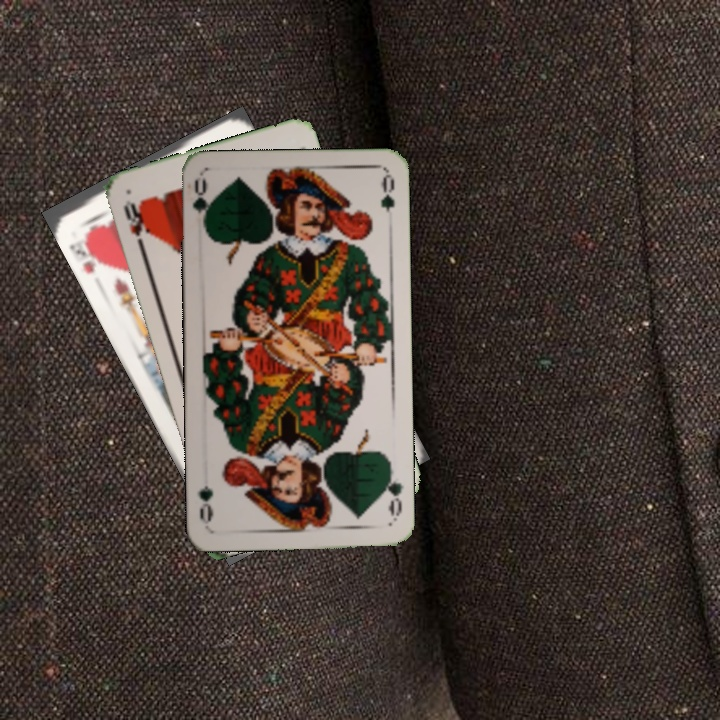GO: (188, 176, 215, 235), (379, 463, 406, 522)
HK: (66, 228, 108, 277)
HO: (119, 197, 147, 253)
